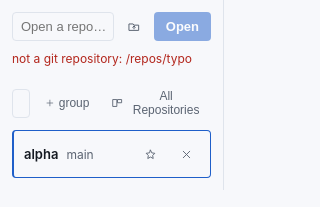
Test: a picked path replaces an earlier open failure instead of stacking errors
This screenshot has width=320, height=207.
What coordinates should you click on to do the following:
click the button named "Browse for a repository folder"
I would click on:
 (134, 26)
Its box is x1=120 y1=12 x2=148 y2=41.
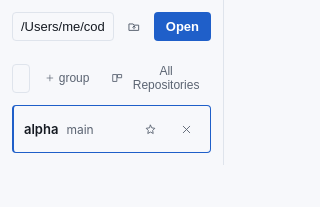
Check: the field with placeholder "Open a repo… (path)" holds "/Users/me/code/real-repo", box x1=12 y1=12 x2=114 y2=41
Check: the message "not a git repository: /repos/typo" is gone
